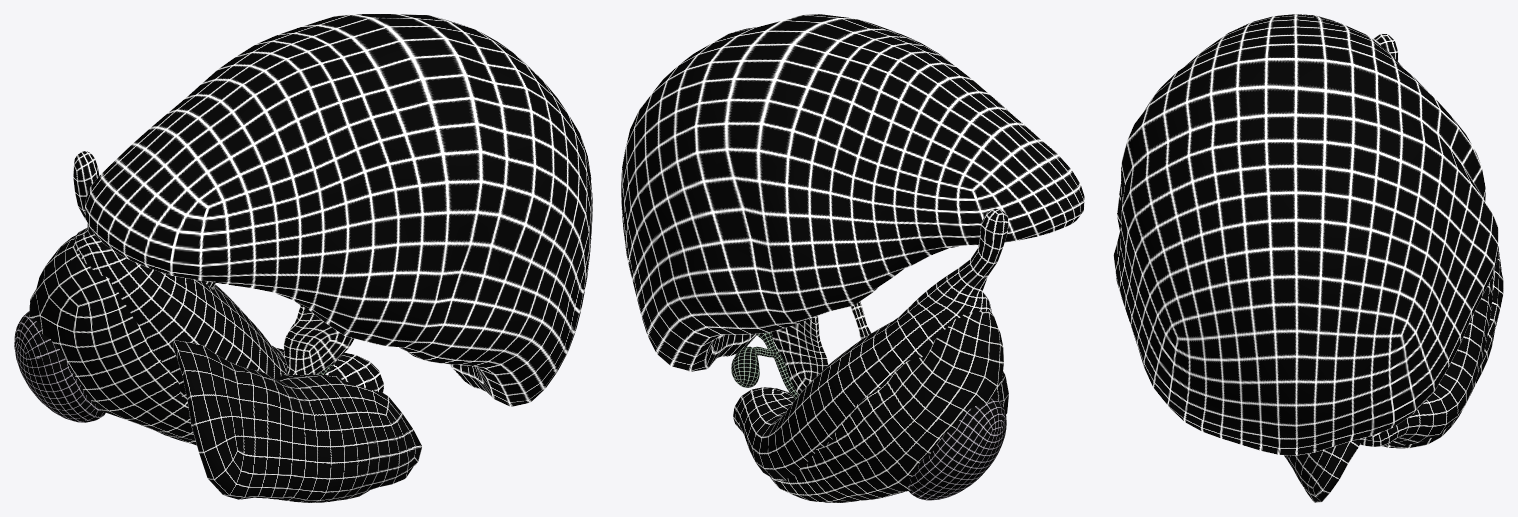
3 views of the same model, side by side, from view 1: azimuth 30°, elevation 25°; view 2: azimuth 150°, elevation 25°; view 3: azimuth 270°, elevation 25° (orthographic). The views are drawn at different scales.
Visible parts, largest first — view 1: Liver_M, Omental_bursa_M, Dorsal_mesogastrium_M, Stomach_M, Spleen_M, lesser_omentum_M; view 2: Liver_M, Dorsal_mesogastrium_M, Stomach_M, Spleen_M, lesser_omentum_M, Gallbladder_M; view 3: Liver_M, Stomach_M, Omental_bursa_M, Dorsal_mesogastrium_M.
Boxes of the visible parts, <box> form: Liver_M: <box>85,14,592,406</box>; Omental_bursa_M: <box>173,340,422,502</box>; Dorsal_mesogastrium_M: <box>29,235,196,445</box>; Stomach_M: <box>73,150,384,400</box>; Spleen_M: <box>14,311,105,422</box>; lesser_omentum_M: <box>204,281,354,374</box>; Liver_M: <box>621,14,1084,371</box>; Dorsal_mesogastrium_M: <box>770,310,1003,502</box>; Stomach_M: <box>733,208,1008,480</box>; Spleen_M: <box>908,397,1006,500</box>; lesser_omentum_M: <box>771,301,871,394</box>; Gallbladder_M: <box>731,332,798,399</box>; Liver_M: <box>1113,14,1498,455</box>; Stomach_M: <box>1356,33,1492,446</box>; Omental_bursa_M: <box>1284,440,1360,502</box>; Dorsal_mesogastrium_M: <box>1383,246,1503,448</box>.
Size of the model in its own units: 0.1108 by 0.1038 by 0.0845.
Materials: 8 (8 with a texture image).
